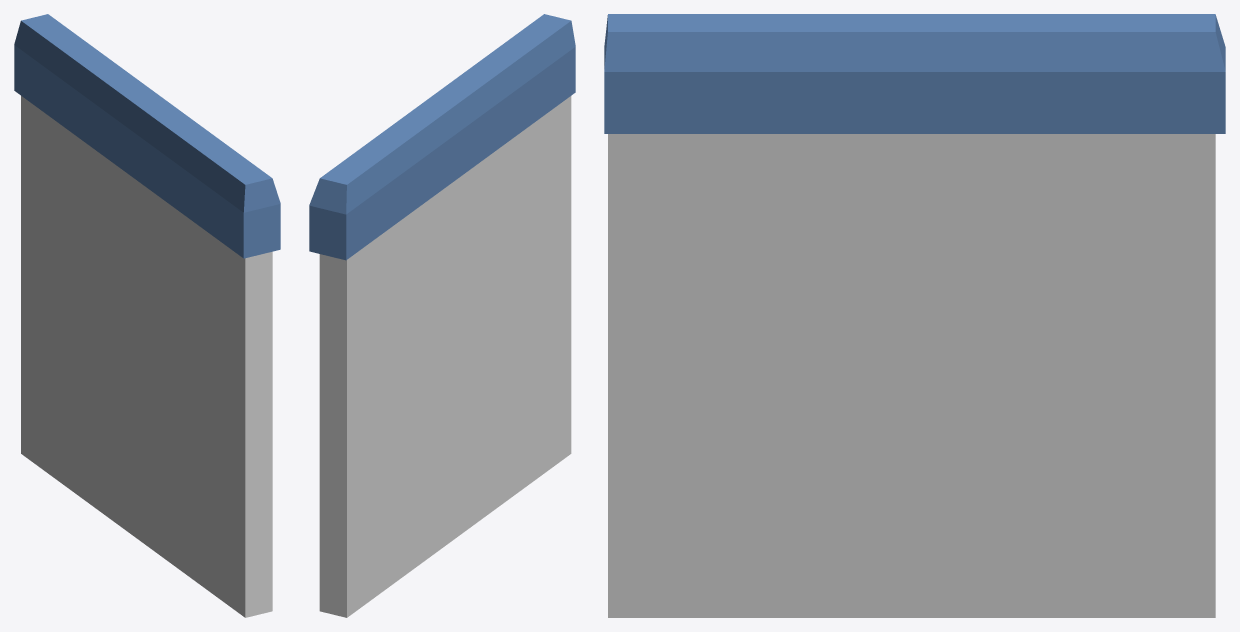
The model's file is calendar.glb.
3 views of the same model, side by side, from view 1: azimuth 30°, elevation 25°; view 2: azimuth 150°, elevation 25°; view 3: azimuth 270°, elevation 25° (orthographic). The views are drawn at different scales.
Visible parts, largest first — view 1: Calendar; view 2: Calendar; view 3: Calendar.
Part boxes in pixels (left/top/right/bottom): Calendar: left=14, top=14, right=280, bottom=617; Calendar: left=309, top=14, right=575, bottom=617; Calendar: left=604, top=14, right=1225, bottom=617.
Size of the model in its own units: 0.1904 by 2.13 by 2.05.
